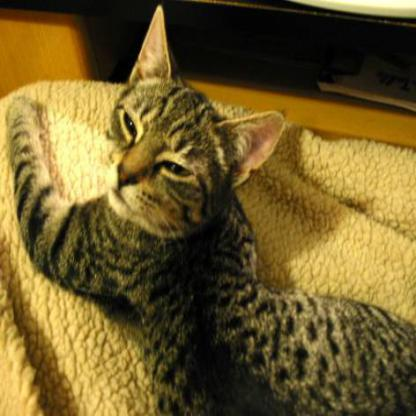cat: (80, 49, 285, 293)
